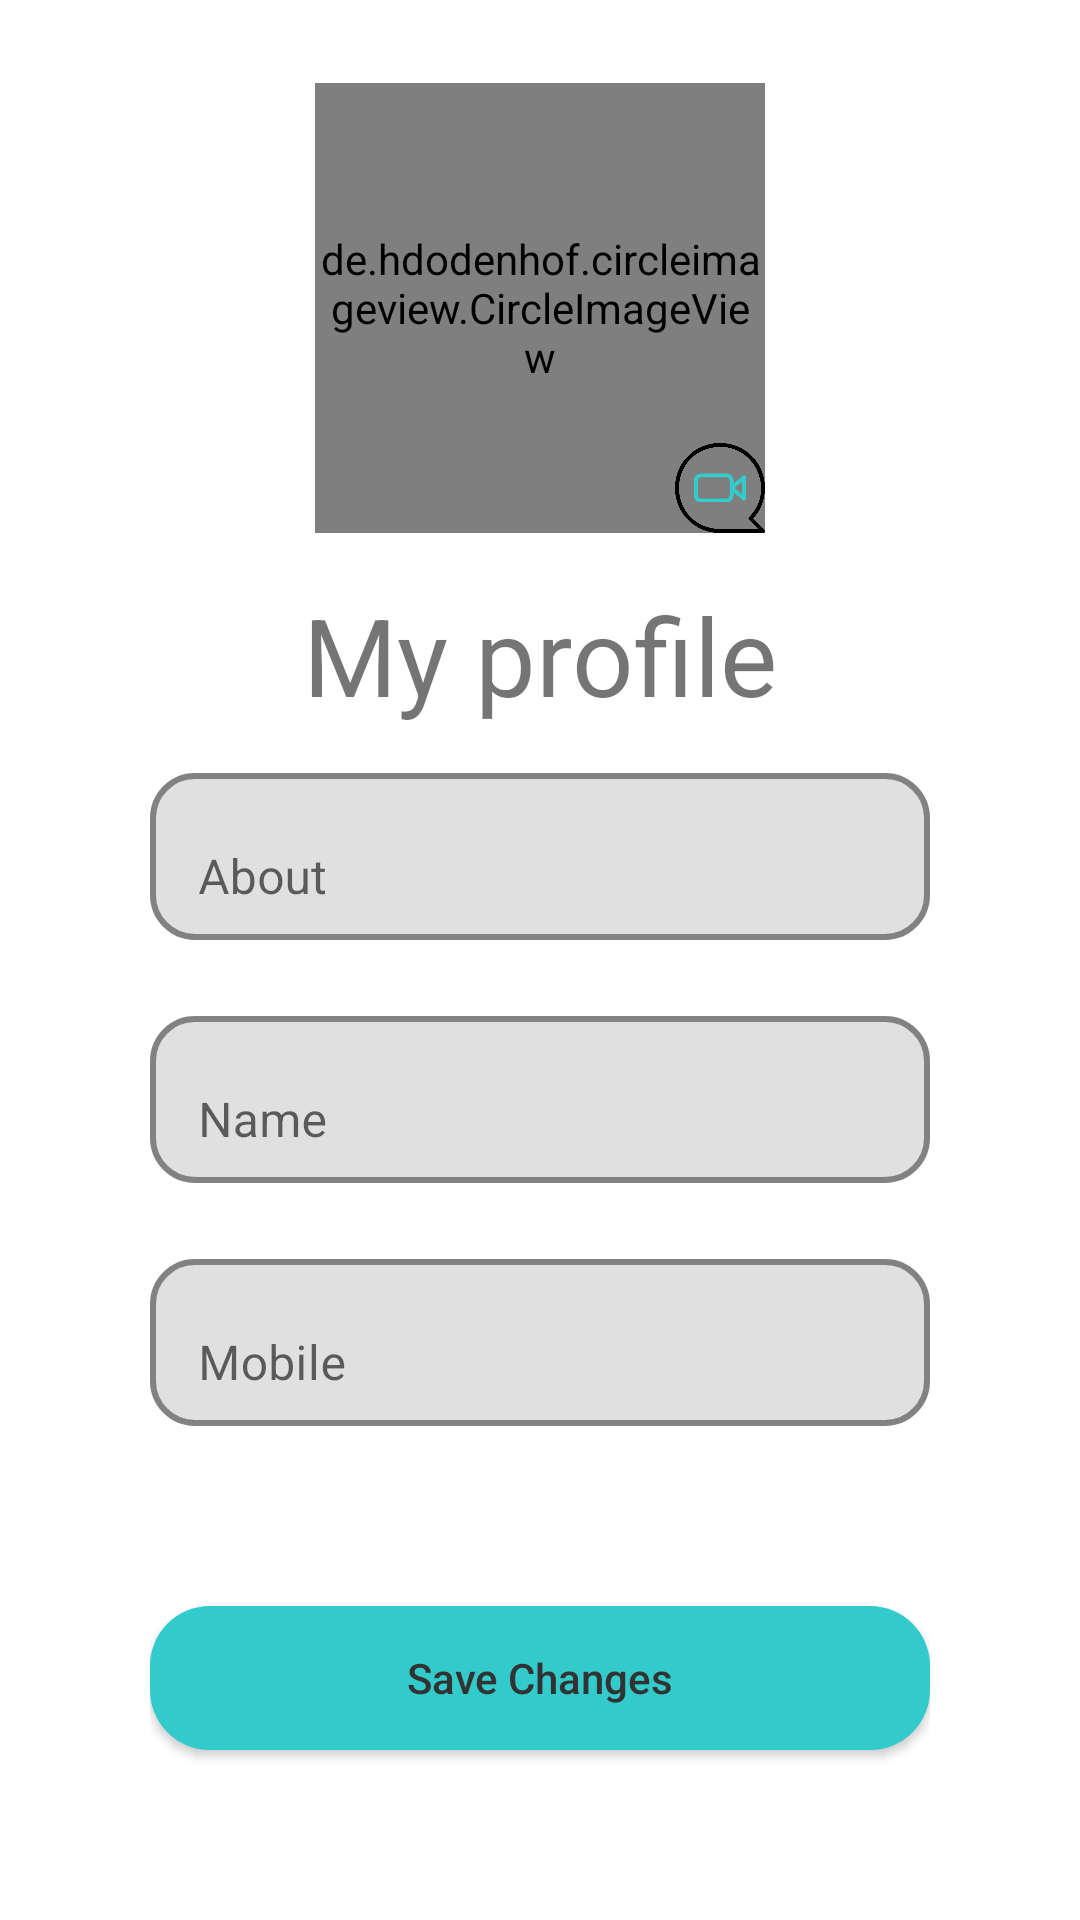

Icons on this 1080×1920 Android screen, each with the point to tap as [x,y]:
video: [720,488]
